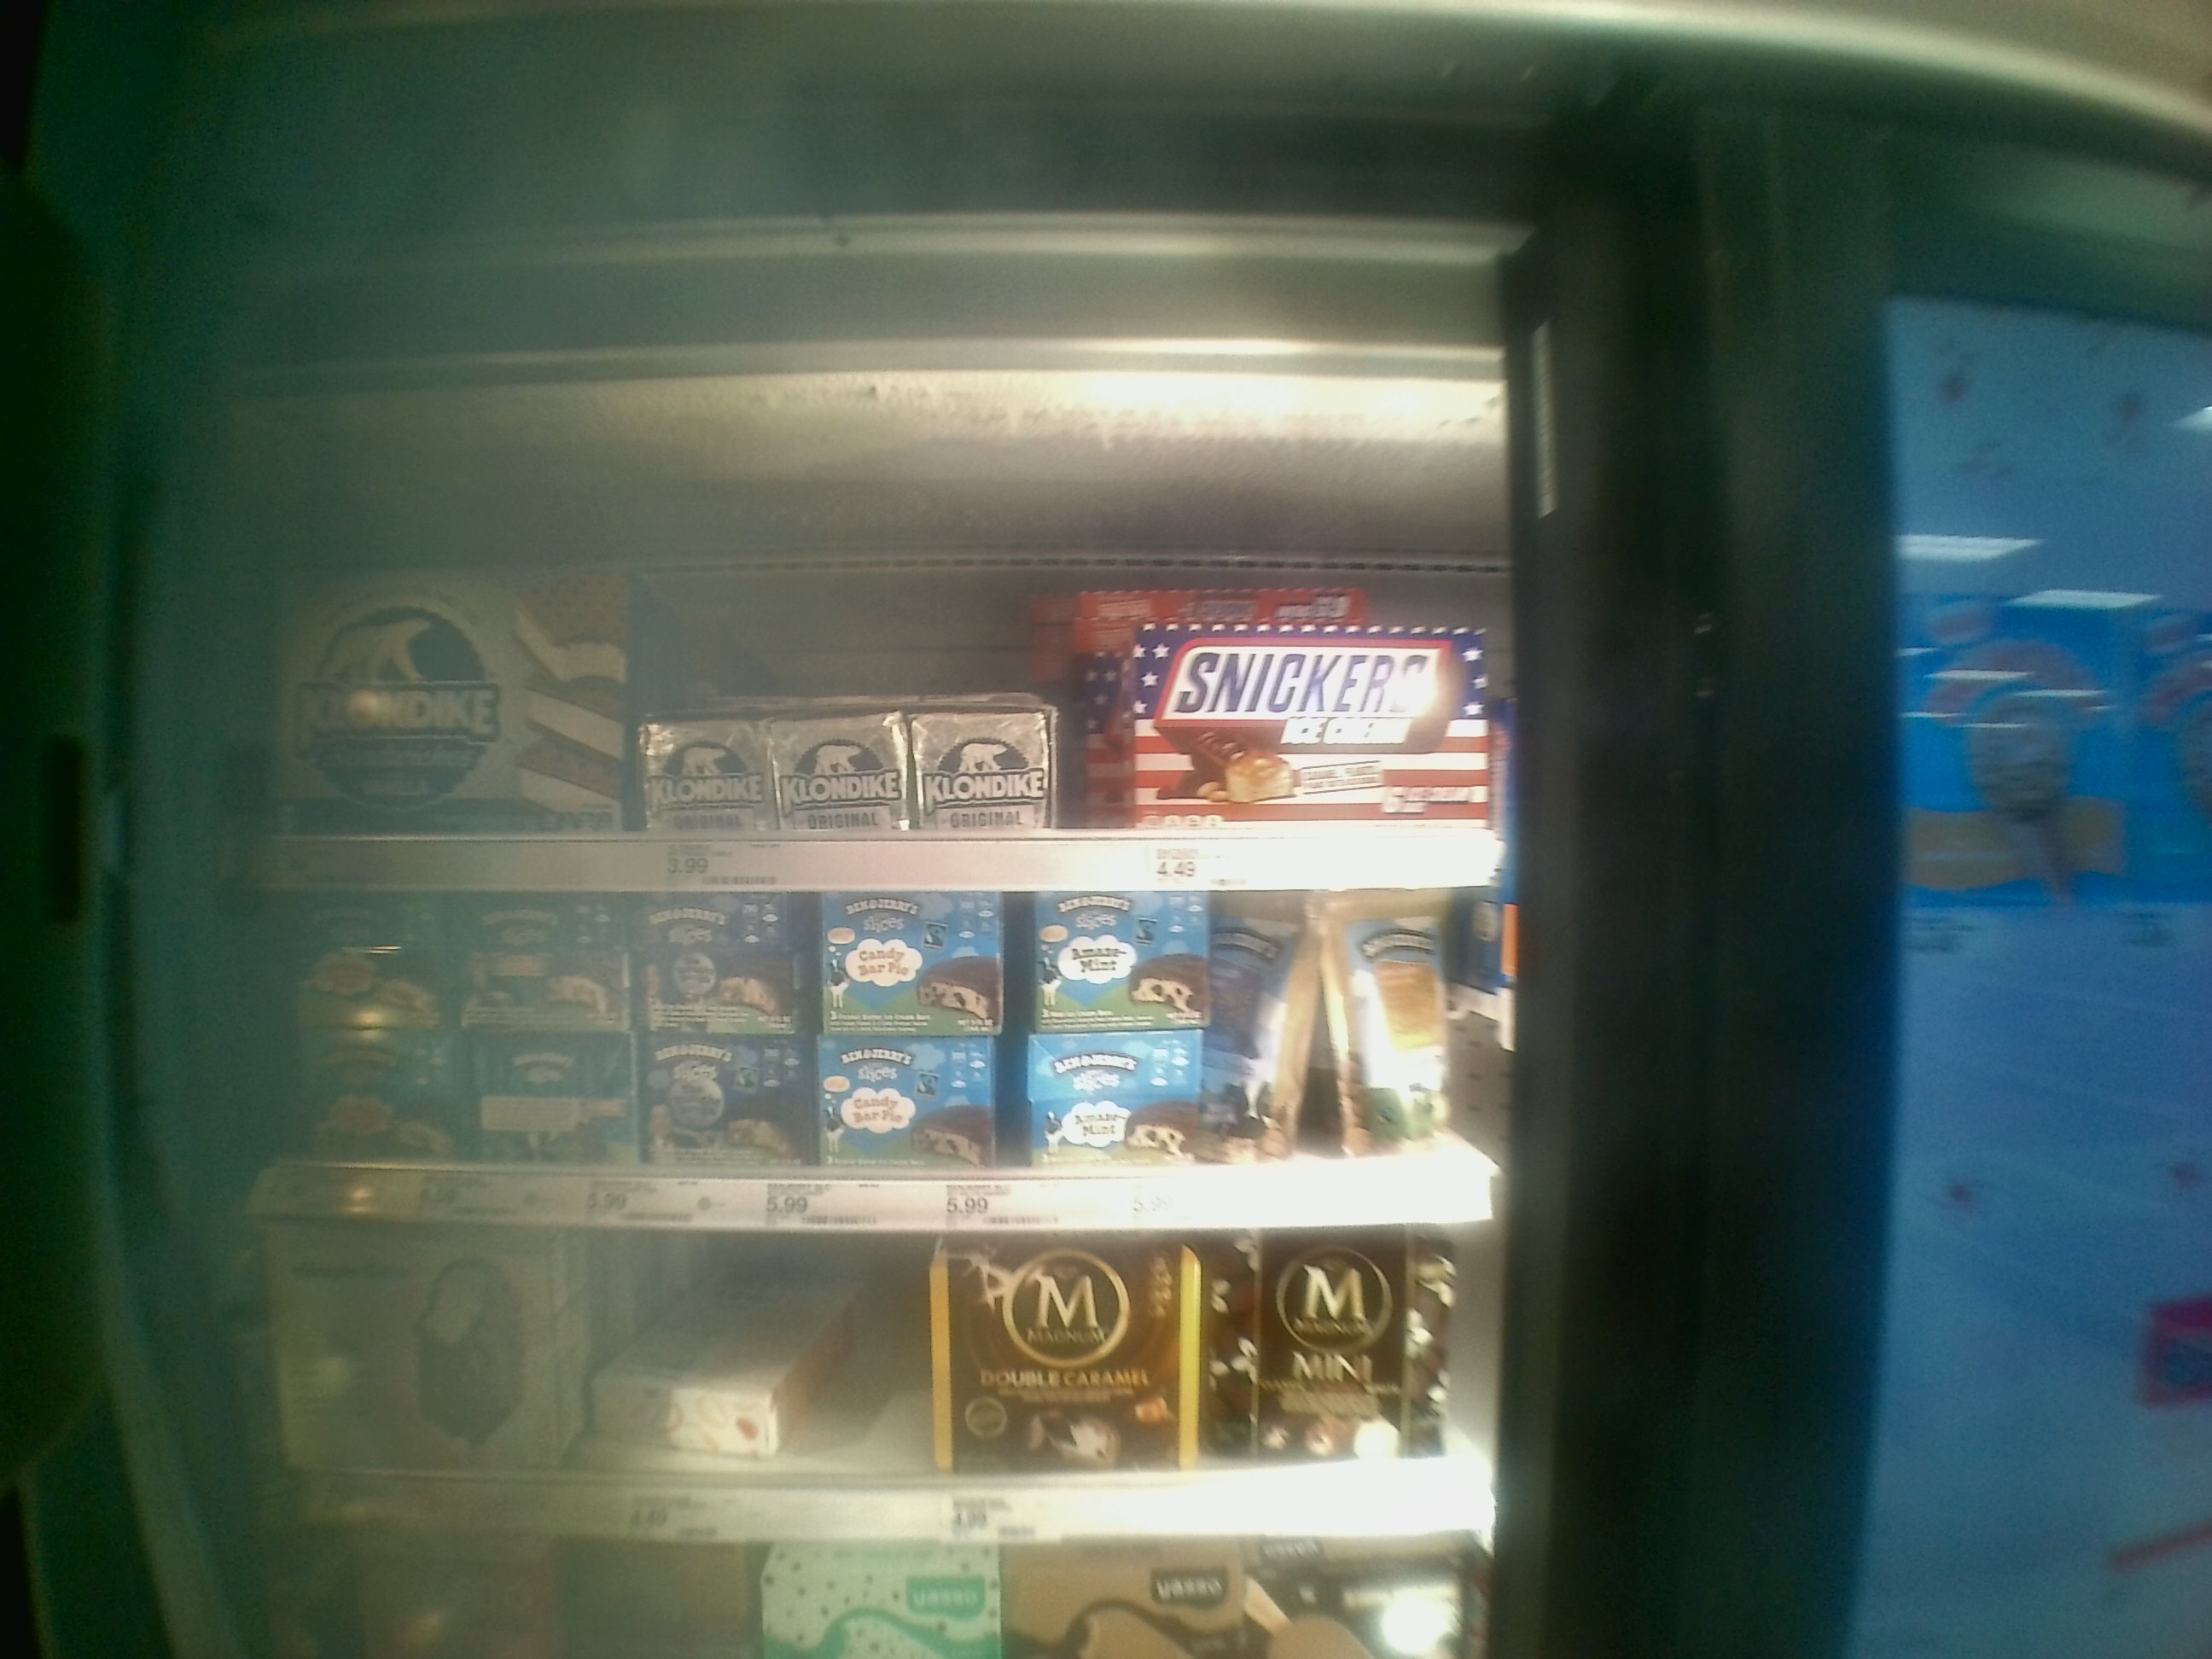ice-cream-shelf: (216, 460, 1529, 887), (216, 882, 1524, 1234), (209, 1234, 1498, 1539)
